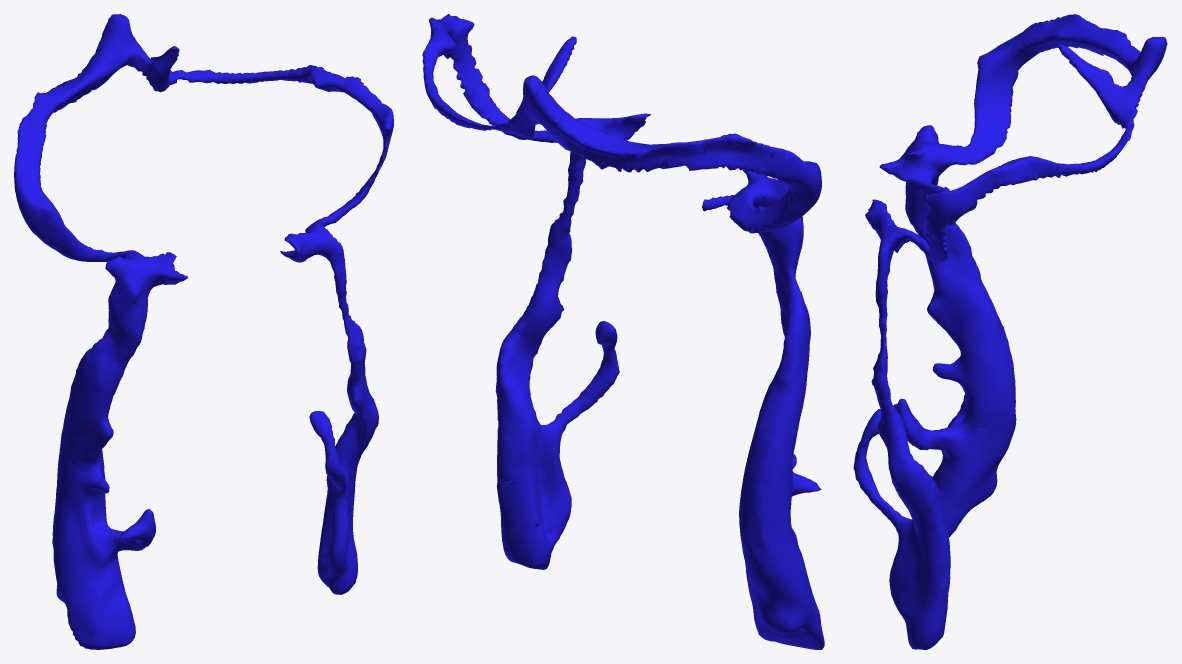
3 views of the same model, side by side, from view 1: azimuth 30°, elevation 25°; view 2: azimuth 150°, elevation 25°; view 3: azimuth 270°, elevation 25° (orthographic). The views are drawn at different scales.
Parts seen in each view (by area): view 1: Polygonal_Model_5_Triangles_0; view 2: Polygonal_Model_5_Triangles_0; view 3: Polygonal_Model_5_Triangles_0.
Boxes of the visible parts, left/top/right/bottom form: Polygonal_Model_5_Triangles_0: left=14, top=14, right=393, bottom=649; Polygonal_Model_5_Triangles_0: left=422, top=14, right=824, bottom=649; Polygonal_Model_5_Triangles_0: left=853, top=14, right=1167, bottom=649.
Size of the model in its own units: 4.43 by 6.46 by 3.29.
